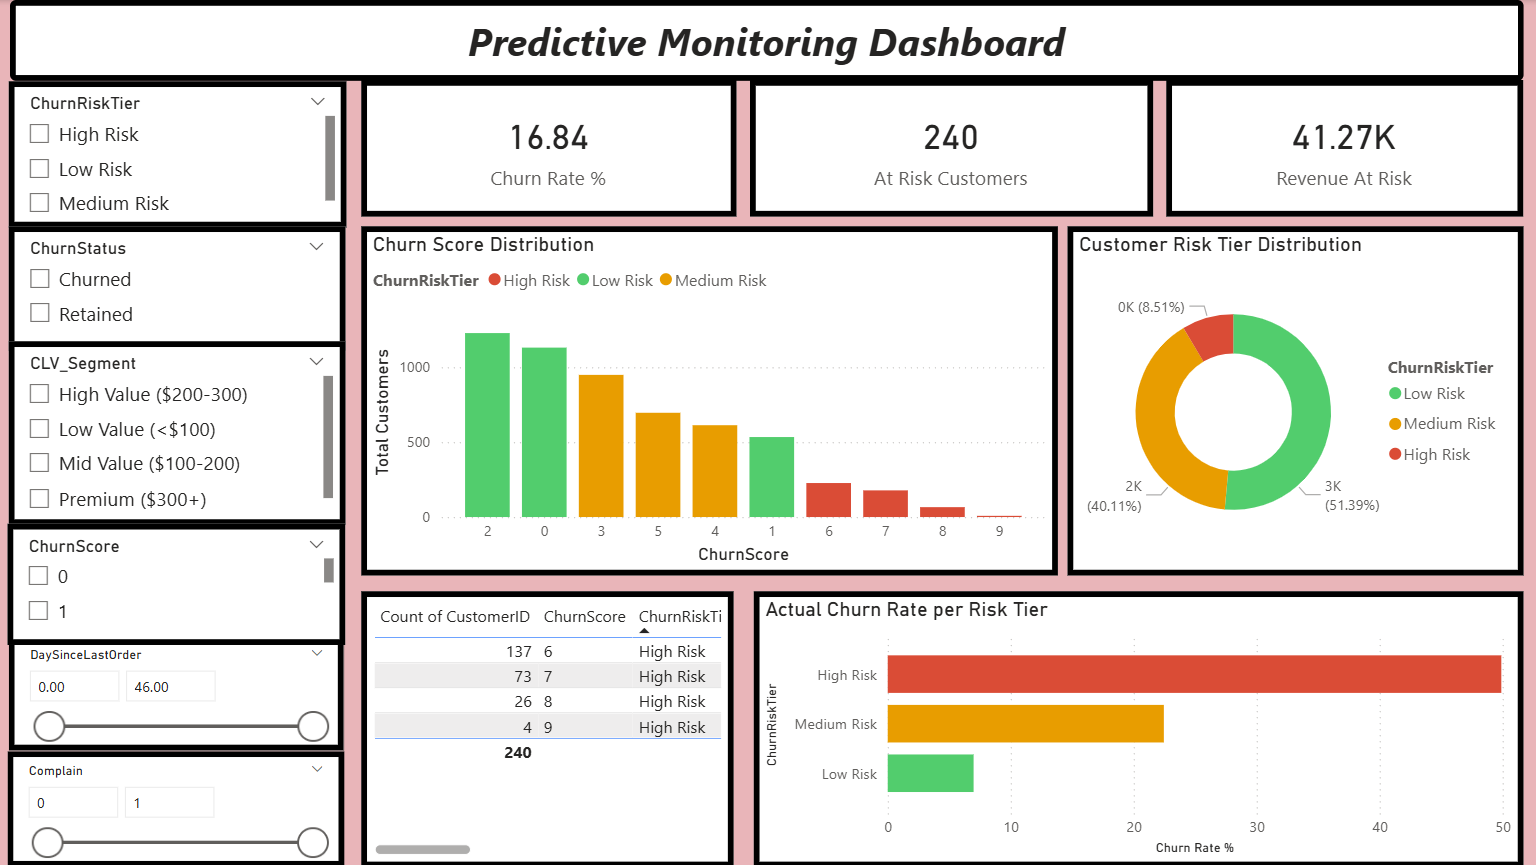

Layout of this report page (visuals, bound fields, positions):
{"tool":"powerbi","page":{"name":"Predictive Monitoring","canvas":[1280,720],"ordinal":5},"visuals":[{"type":"card","fields":{"Values":["ecommerce.At Risk Customers"]},"box":[623.3,66.3,334.9,114],"z":0},{"type":"card","fields":{"Values":["ecommerce.Revenue At Risk"]},"box":[969.8,66.3,296.5,114],"z":1000},{"type":"card","fields":{"Values":["ecommerce.Churn Rate %"]},"box":[300,66.3,311.6,114],"z":2000},{"type":"textbox","box":[8.4,0,1258.4,67.2],"z":3000},{"type":"donutChart","title":"Customer Risk Tier Distribution","fields":{"Category":["ecommerce.ChurnRiskTier"],"Y":["ecommerce.Total Customers"]},"box":[887.4,188.5,379.4,290.6],"z":4000},{"type":"columnChart","title":"Churn Score Distribution","fields":{"Category":["ecommerce.ChurnScore"],"Y":["ecommerce.Total Customers"],"Series":["ecommerce.ChurnRiskTier"]},"box":[300,188.4,579.1,290.7],"z":5000},{"type":"barChart","title":"Actual Churn Rate per Risk Tier","fields":{"Category":["ecommerce.ChurnRiskTier"],"Y":["ecommerce.Churn Rate %"]},"box":[626.8,491.1,640,229.3],"z":6000},{"type":"tableEx","fields":{"Values":["CountNonNull(ecommerce.CustomerID)","ecommerce.ChurnScore","ecommerce.ChurnRiskTier","Sum(ecommerce.CashbackAmount)","Sum(ecommerce.EstimatedLTV)","Sum(ecommerce.Complain)","Sum(ecommerce.SatisfactionScore)","Sum(ecommerce.DaySinceLastOrder)"]},"box":[300.2,491.1,309.8,229.3],"z":7000},{"type":"slicer","fields":{"Values":["ecommerce.ChurnRiskTier"]},"box":[7.2,67.2,281,121.3],"z":8000},{"type":"slicer","fields":{"Values":["ecommerce.ChurnStatus"]},"box":[7.2,188.5,279.8,103.3],"z":9000},{"type":"slicer","fields":{"Values":["ecommerce.CLV_Segment"]},"box":[7.2,283.4,279.8,152.5],"z":10000},{"type":"slicer","fields":{"Values":["ecommerce.DaySinceLastOrder"]},"box":[7.2,528.3,278.6,96.1],"z":11000},{"type":"slicer","fields":{"Values":["ecommerce.ChurnScore"]},"box":[6,435.9,281,100.9],"z":12000},{"type":"slicer","fields":{"Values":["ecommerce.Complain"]},"box":[6,624.4,279.8,96.1],"z":13000}]}

Visuals, with their boxes in screenshot pixels (x1, y1, x2, y2), scaled from the page's 1280x720 canvas onto the 1536x865 screenshot:
card - ecommerce.At Risk Customers: [left=748, top=80, right=1150, bottom=217]
card - ecommerce.Revenue At Risk: [left=1164, top=80, right=1520, bottom=217]
card - ecommerce.Churn Rate %: [left=360, top=80, right=734, bottom=217]
textbox: [left=10, top=0, right=1520, bottom=81]
"Customer Risk Tier Distribution" donutChart: [left=1065, top=226, right=1520, bottom=576]
"Churn Score Distribution" columnChart: [left=360, top=226, right=1055, bottom=576]
"Actual Churn Rate per Risk Tier" barChart: [left=752, top=590, right=1520, bottom=864]
tableEx - CountNonNull(ecommerce.CustomerID) x ecommerce.ChurnScore: [left=360, top=590, right=732, bottom=864]
slicer - ecommerce.ChurnRiskTier: [left=9, top=81, right=346, bottom=226]
slicer - ecommerce.ChurnStatus: [left=9, top=226, right=344, bottom=351]
slicer - ecommerce.CLV_Segment: [left=9, top=340, right=344, bottom=524]
slicer - ecommerce.DaySinceLastOrder: [left=9, top=635, right=343, bottom=750]
slicer - ecommerce.ChurnScore: [left=7, top=524, right=344, bottom=645]
slicer - ecommerce.Complain: [left=7, top=750, right=343, bottom=864]
